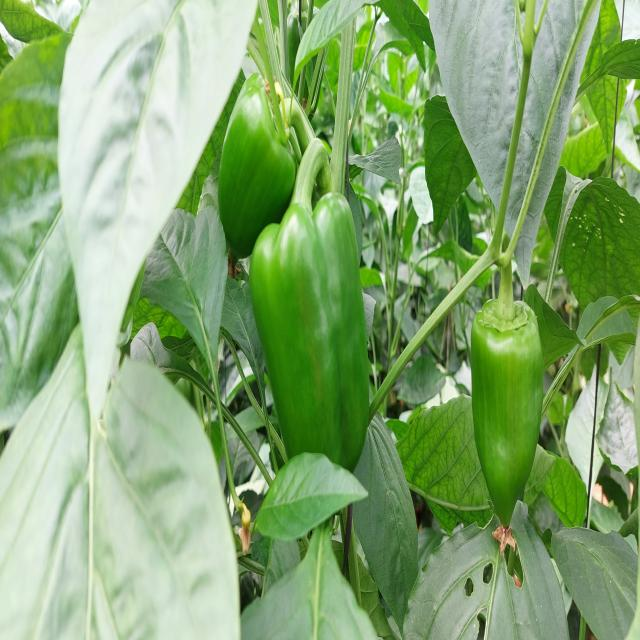Green--Not-ready-to-harvest: (259, 212, 375, 500), (472, 278, 544, 527), (222, 66, 287, 240)
